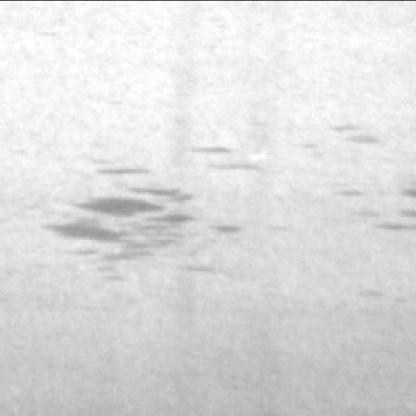inclusion: (46, 158, 223, 268)
